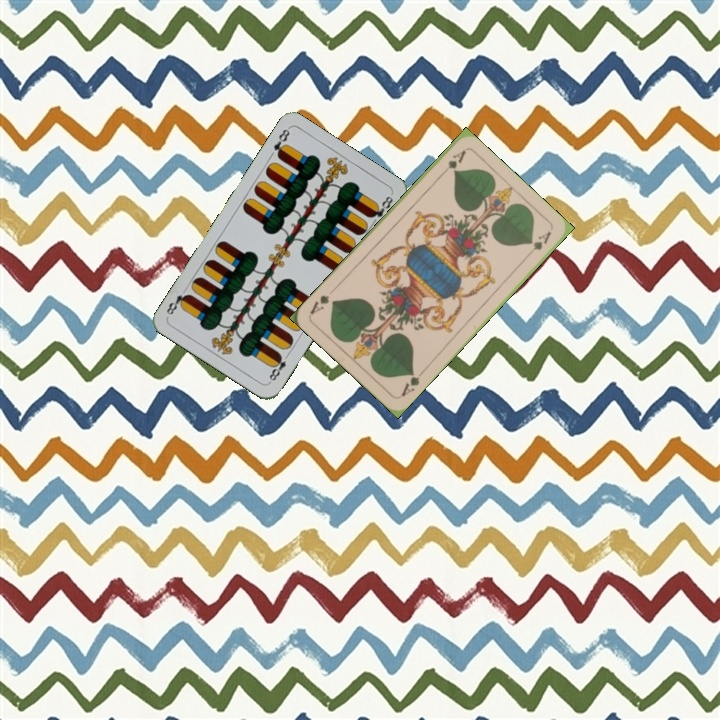E8: (265, 349, 292, 385), (269, 124, 292, 161)
GA: (436, 146, 468, 179), (397, 366, 427, 399)
